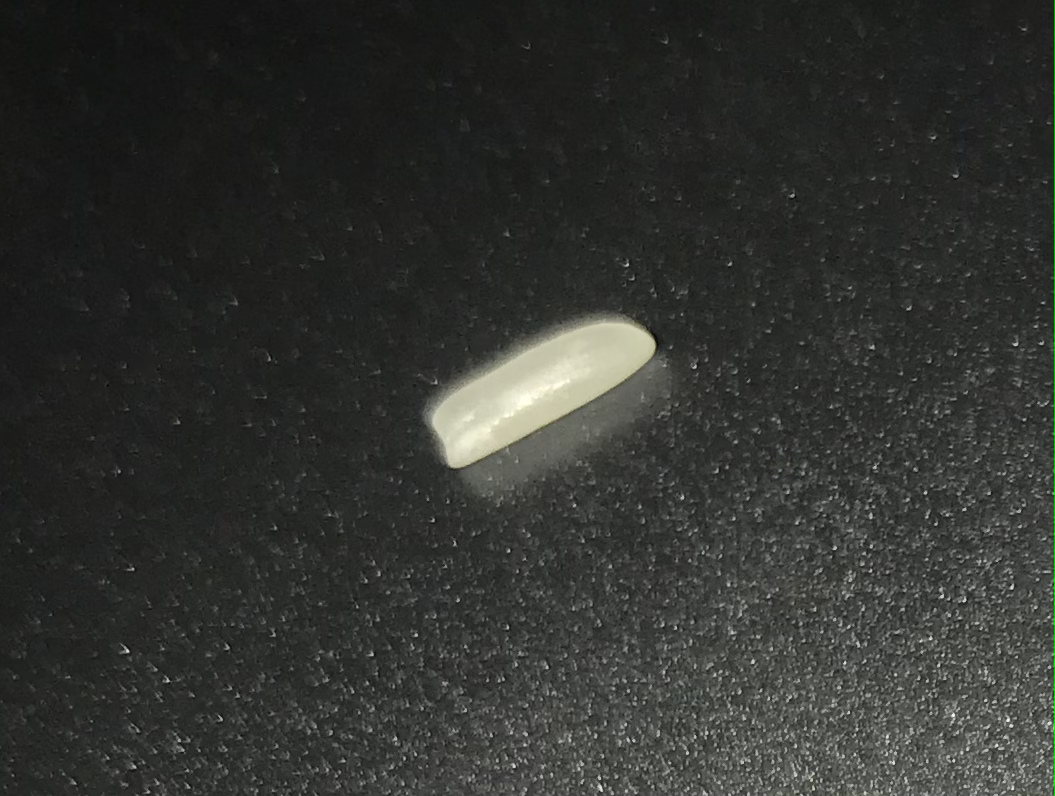Gao Thom My: (403, 299, 678, 489)
